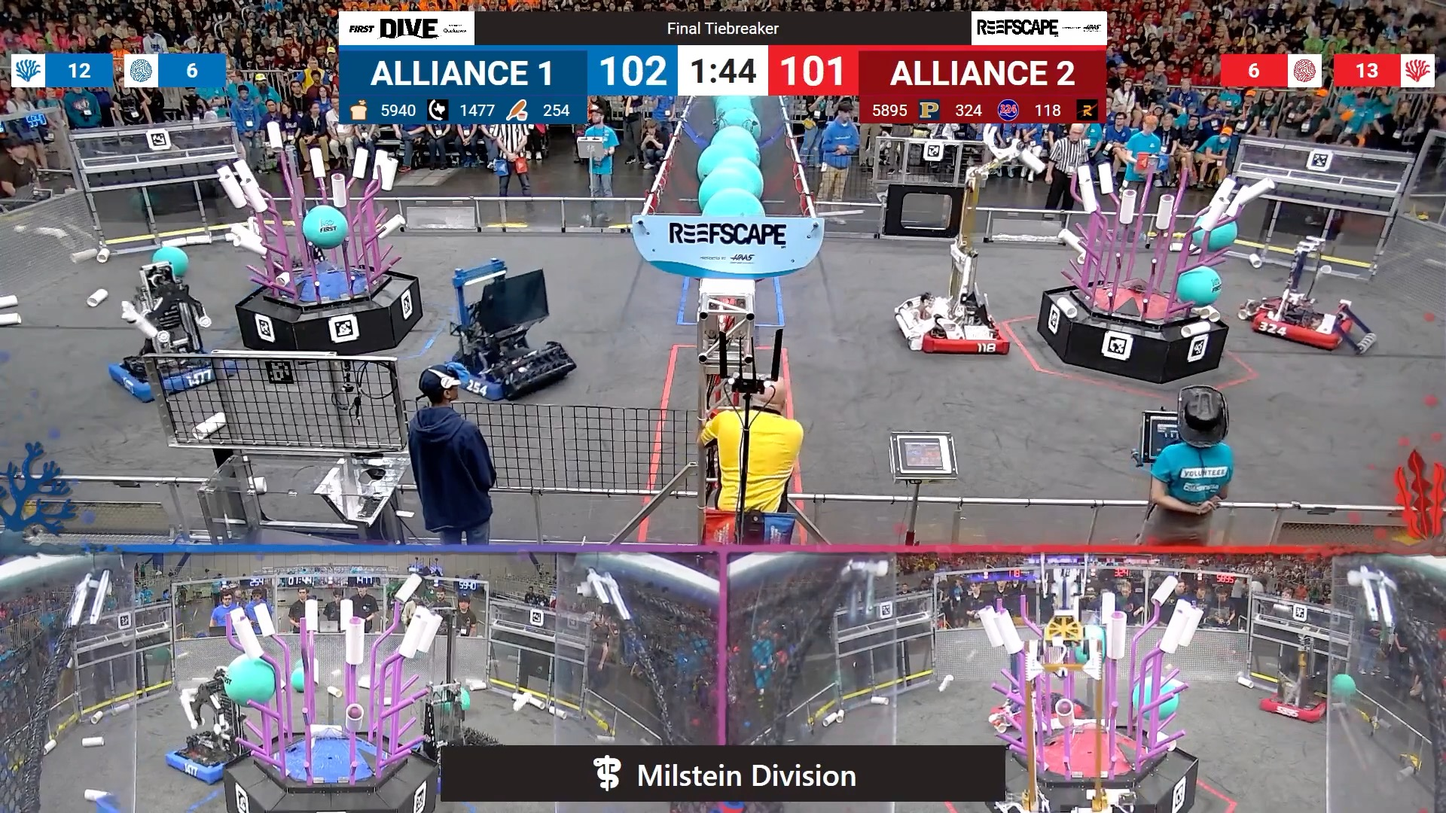bumpers: (430, 346, 574, 402), (100, 347, 239, 401), (903, 309, 1022, 367), (1240, 300, 1355, 358), (159, 737, 253, 787), (1251, 691, 1335, 726)
